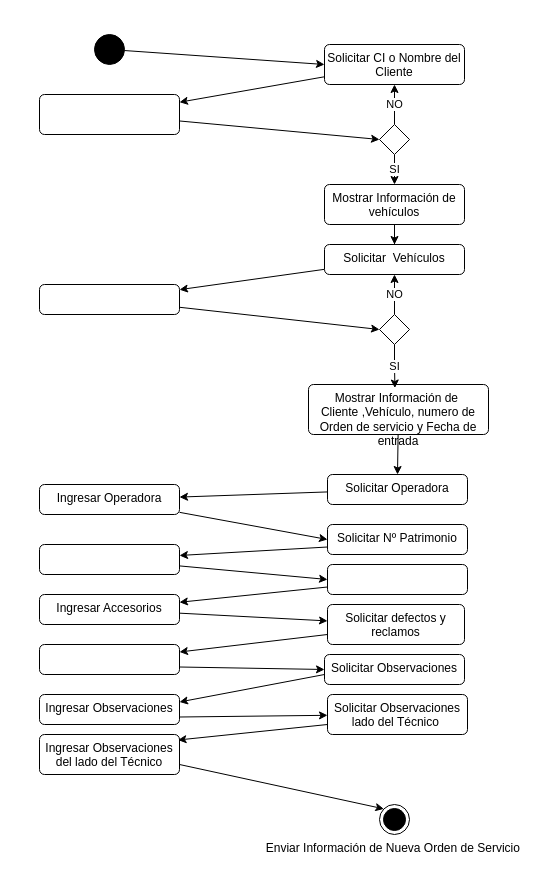
The diagram is 559 pixels wide and 873 high, and some of its shapes have lost their labels. The box of each missing label's shape, as (x1, y1, x2, y2) in pixels:
CI o Nombre Incorrectos: (378, 124, 410, 154)
Ingresar CI o Nombre del cliente: (38, 94, 180, 134)
Ingresar defectos y reclamos: (38, 644, 180, 674)
Ingresar Nº Patrimonio: (38, 544, 180, 574)
Registrar Nueva Orden de servicio: (94, 34, 124, 64)
Seleccionar Vehículos: (38, 284, 180, 314)
Solicitar Accesorios: (326, 564, 468, 594)
